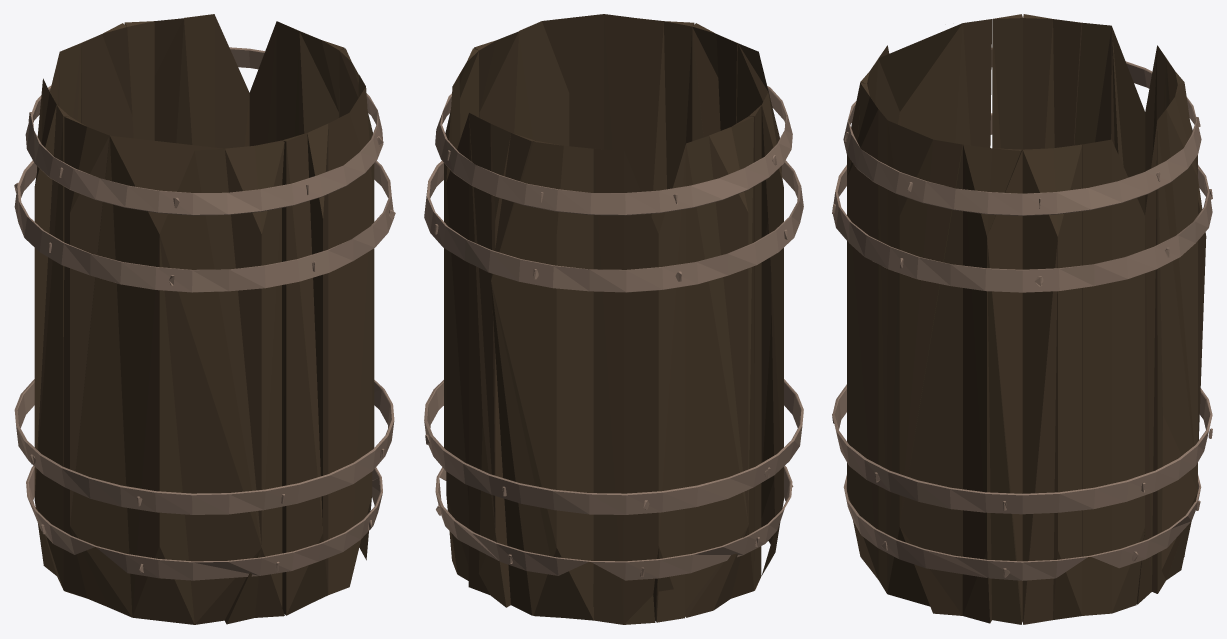
Rendered from barrel-oak.lod2.glb.
The picture shows the model from 3 angles, left to right: view 1: azimuth 30°, elevation 25°; view 2: azimuth 150°, elevation 25°; view 3: azimuth 270°, elevation 25°; orthographic projection.
Visible parts, largest first — view 1: Barrel_Bands_Metal053C_2K-PNG_DISPLACEMENT_0; view 2: Barrel_Bands_Metal053C_2K-PNG_DISPLACEMENT_0; view 3: Barrel_Bands_Metal053C_2K-PNG_DISPLACEMENT_0.
Boxes of the visible parts, left/top/right/bottom form: Barrel_Bands_Metal053C_2K-PNG_DISPLACEMENT_0: left=14, top=14, right=395, bottom=624; Barrel_Bands_Metal053C_2K-PNG_DISPLACEMENT_0: left=424, top=14, right=803, bottom=624; Barrel_Bands_Metal053C_2K-PNG_DISPLACEMENT_0: left=832, top=14, right=1212, bottom=624.
Bounding box in the file's own units: 0.7279 × 0.9996 × 0.7279.
